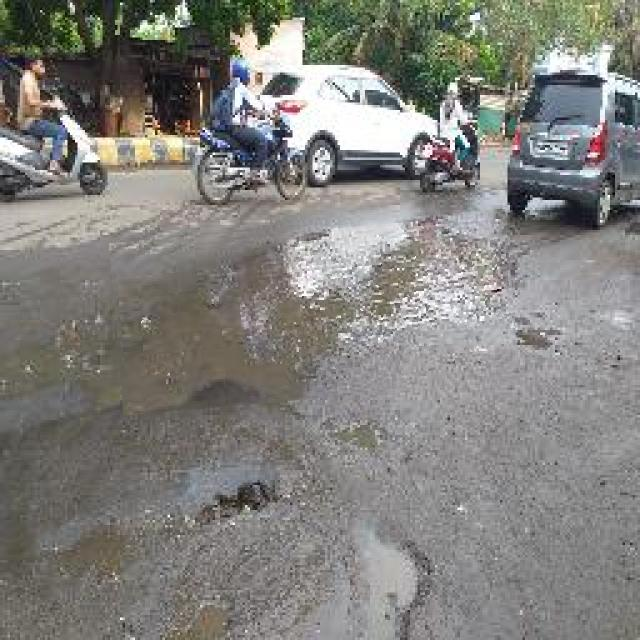puddle: (113, 218, 517, 408)
